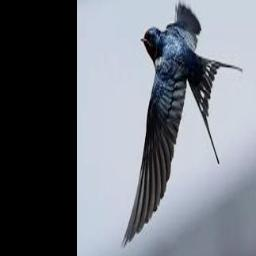Swallow: (120, 0, 243, 249)
